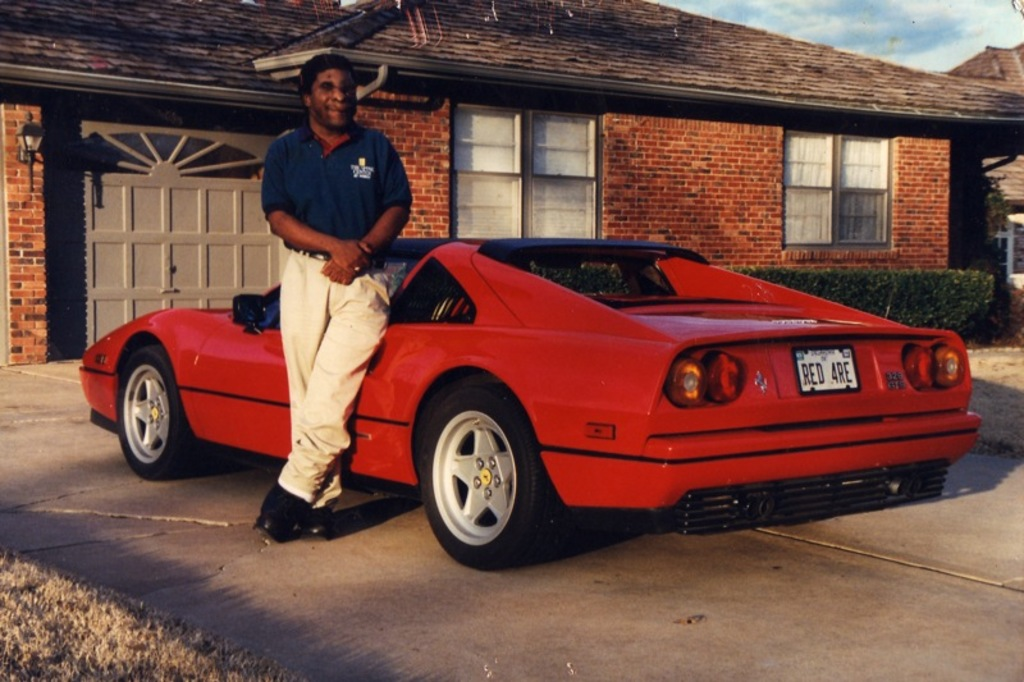car: (70, 233, 983, 570)
